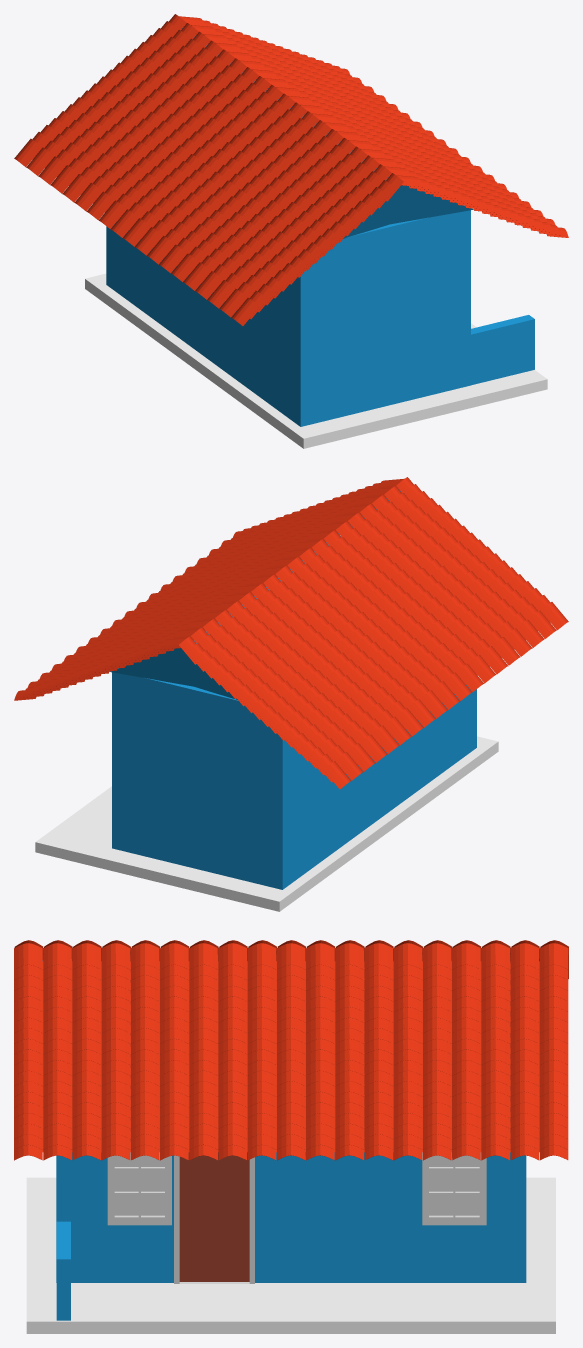
The model's file is rumahfix.fbx.
3 views of the same model, one above another, from view 1: azimuth 30°, elevation 25°; view 2: azimuth 150°, elevation 25°; view 3: azimuth 270°, elevation 25° (orthographic). The views are drawn at different scales.
Parts seen in each view (by area): view 1: Cube, Cube.001, Cube.004, Plane.005; view 2: Cube, Cube.001, Plane.001; view 3: Cube, Cube.001, Cube.007, Cube.006, Cube.005, Plane, Cube.004, Plane|Plane.002|Dupli|2, Plane|Plane.002|Dupli|60, Plane|Plane.002|Dupli|63, Plane|Plane.002|Dupli|8, Plane|Plane.002|Dupli|66 (+14 smaller).
Part boxes in pixels (x1,y1,x2,y2): Cube: [106, 74, 470, 426]; Cube.001: [85, 273, 547, 448]; Cube.004: [471, 315, 534, 385]; Plane.005: [343, 185, 473, 238]; Cube: [112, 536, 476, 889]; Cube.001: [35, 736, 498, 911]; Plane.001: [109, 648, 237, 699]; Cube: [56, 1152, 526, 1282]; Cube.001: [26, 1177, 555, 1333]; Cube.007: [174, 1152, 254, 1283]; Cube.006: [422, 1152, 486, 1225]; Cube.005: [107, 1152, 171, 1225]; Plane: [42, 961, 539, 1152]; Cube.004: [56, 1221, 70, 1320]; Plane|Plane.002|Dupli|2: [539, 943, 568, 969]; Plane|Plane.002|Dupli|60: [393, 943, 422, 969]; Plane|Plane.002|Dupli|63: [247, 943, 276, 969]; Plane|Plane.002|Dupli|8: [101, 943, 130, 969]; Plane|Plane.002|Dupli|66: [130, 943, 159, 969].
Bounding box in the file's own units: 514 × 374 × 618.
